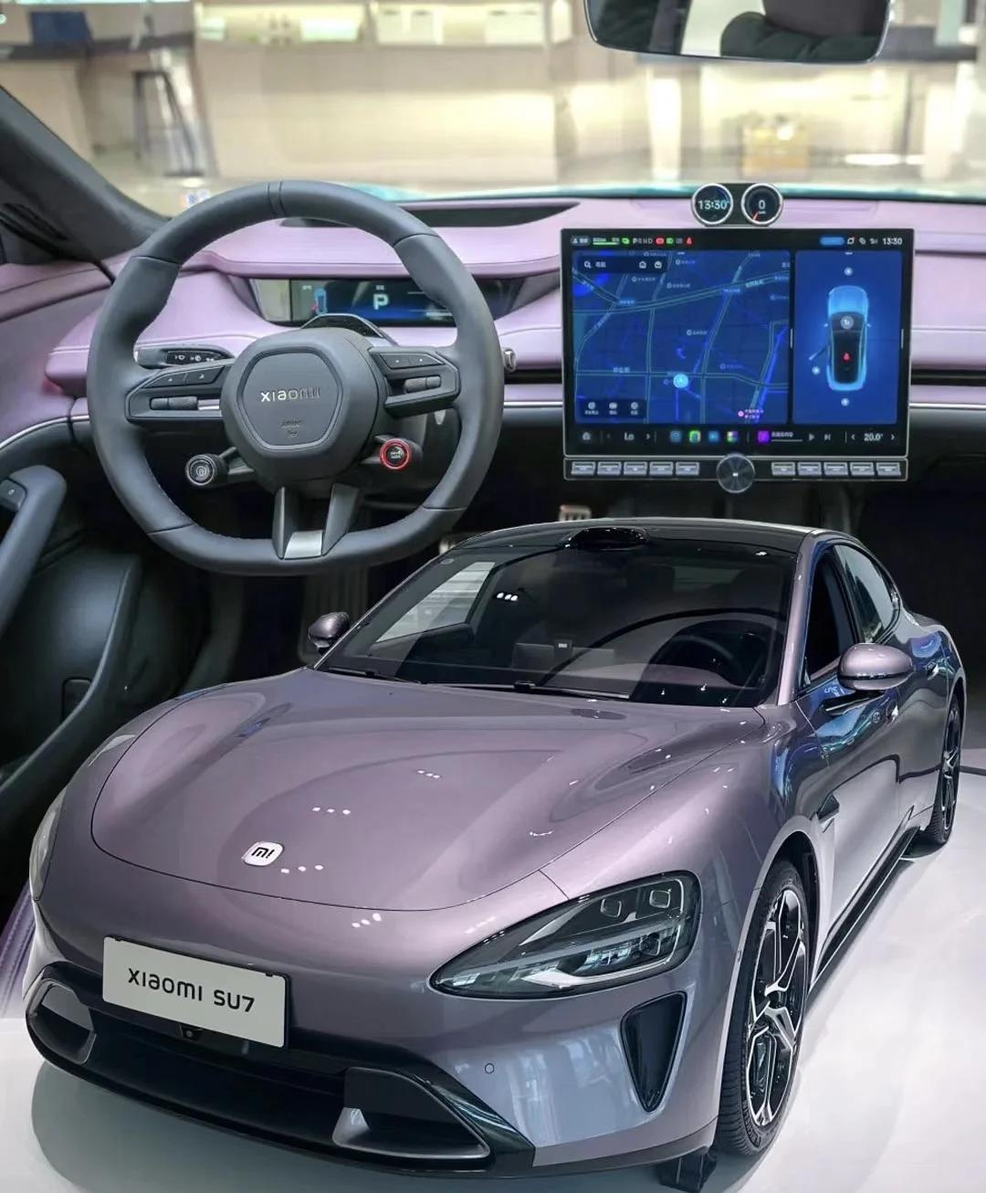su7: (19, 508, 970, 1188)
